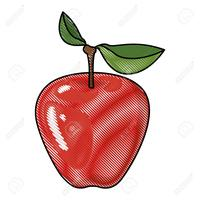apple: (25, 8, 171, 191)
